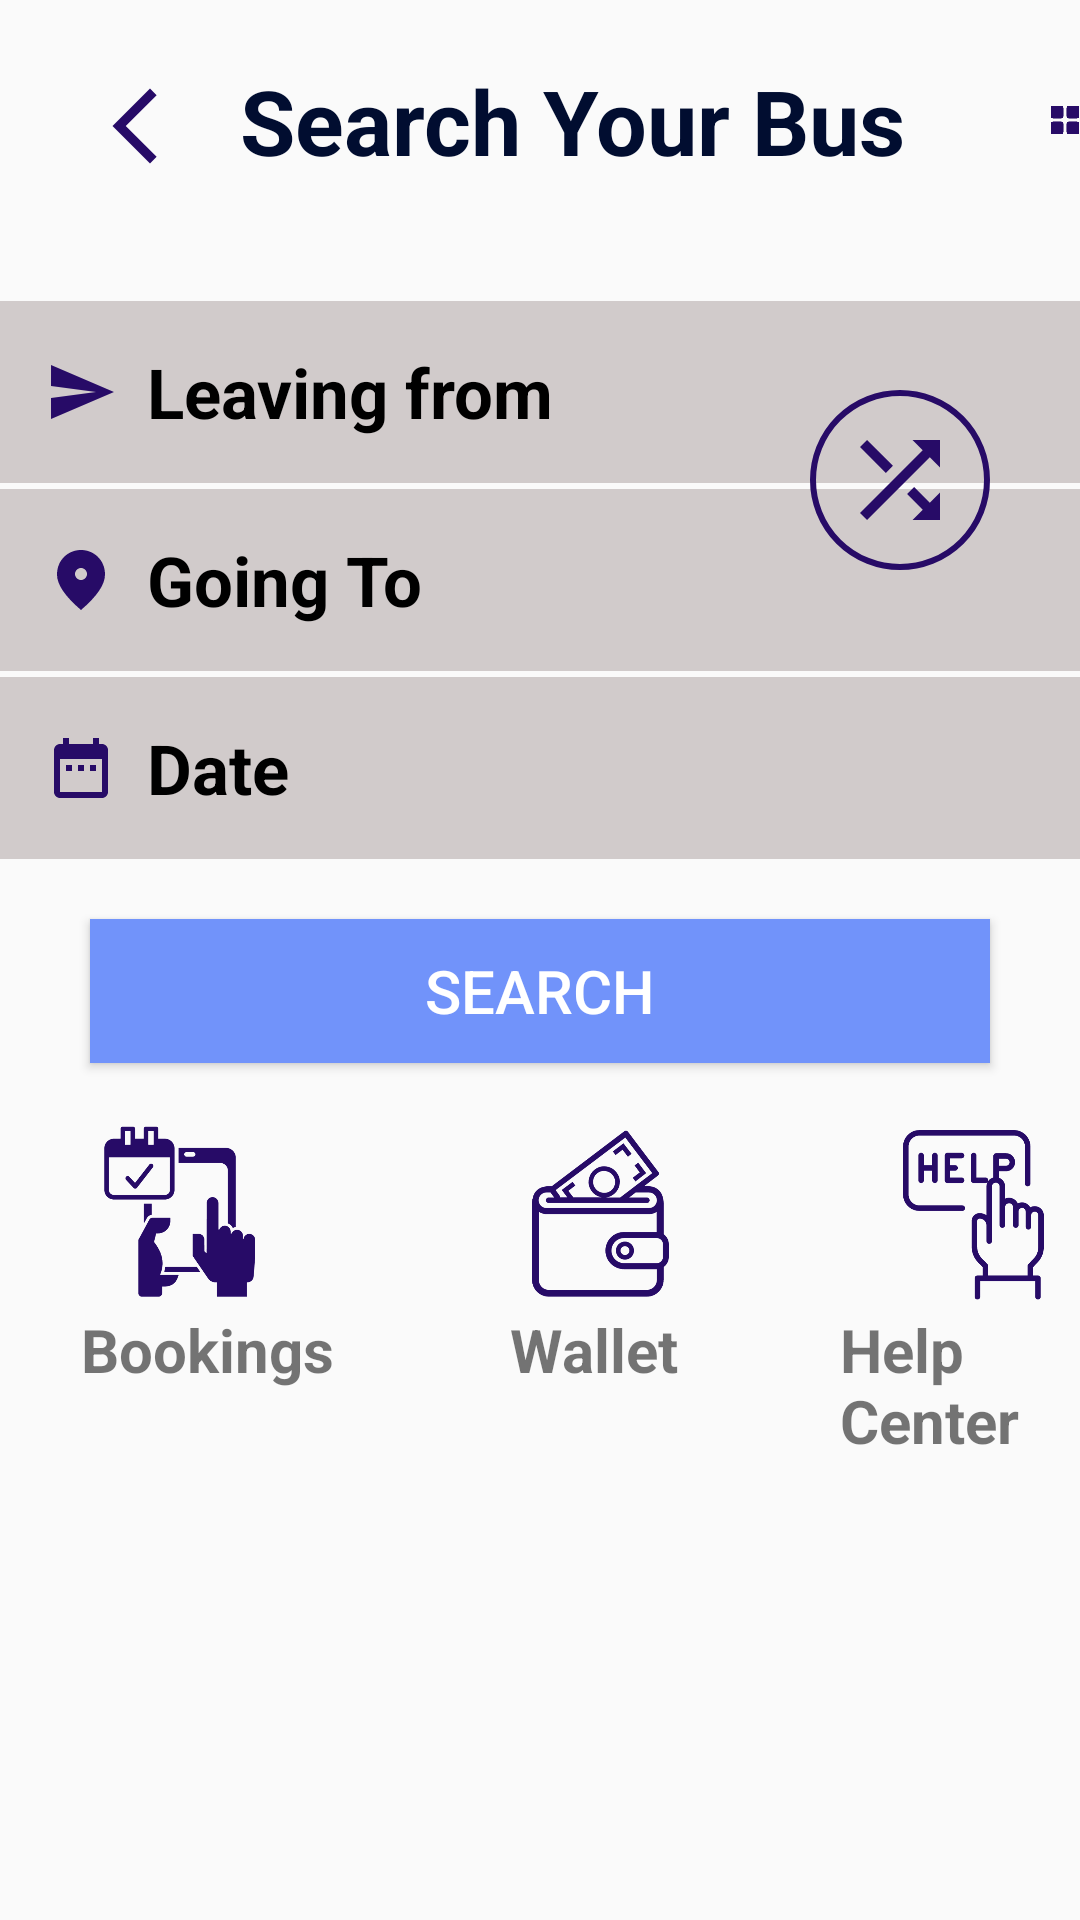

Icons on this 1080 x 1920 Android screen, each with the point to tap as point (x, y):
arrow back: point (134, 126)
menu: point (1065, 120)
shuffle: point (900, 480)
